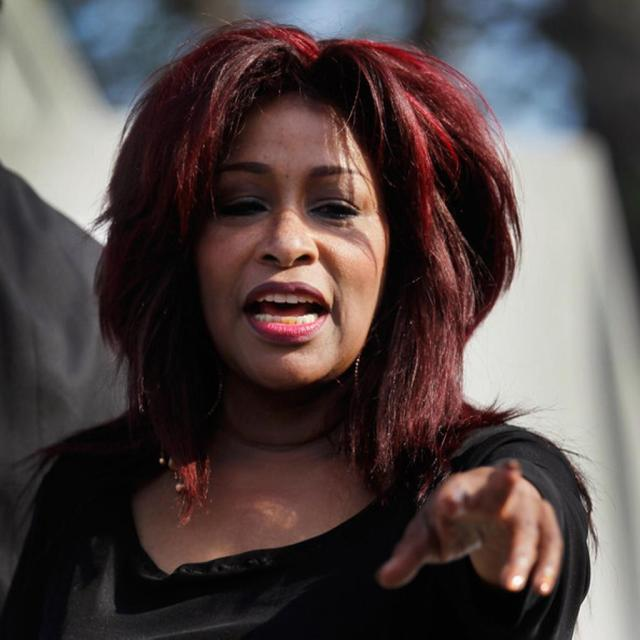Face: (205, 106, 398, 401)
